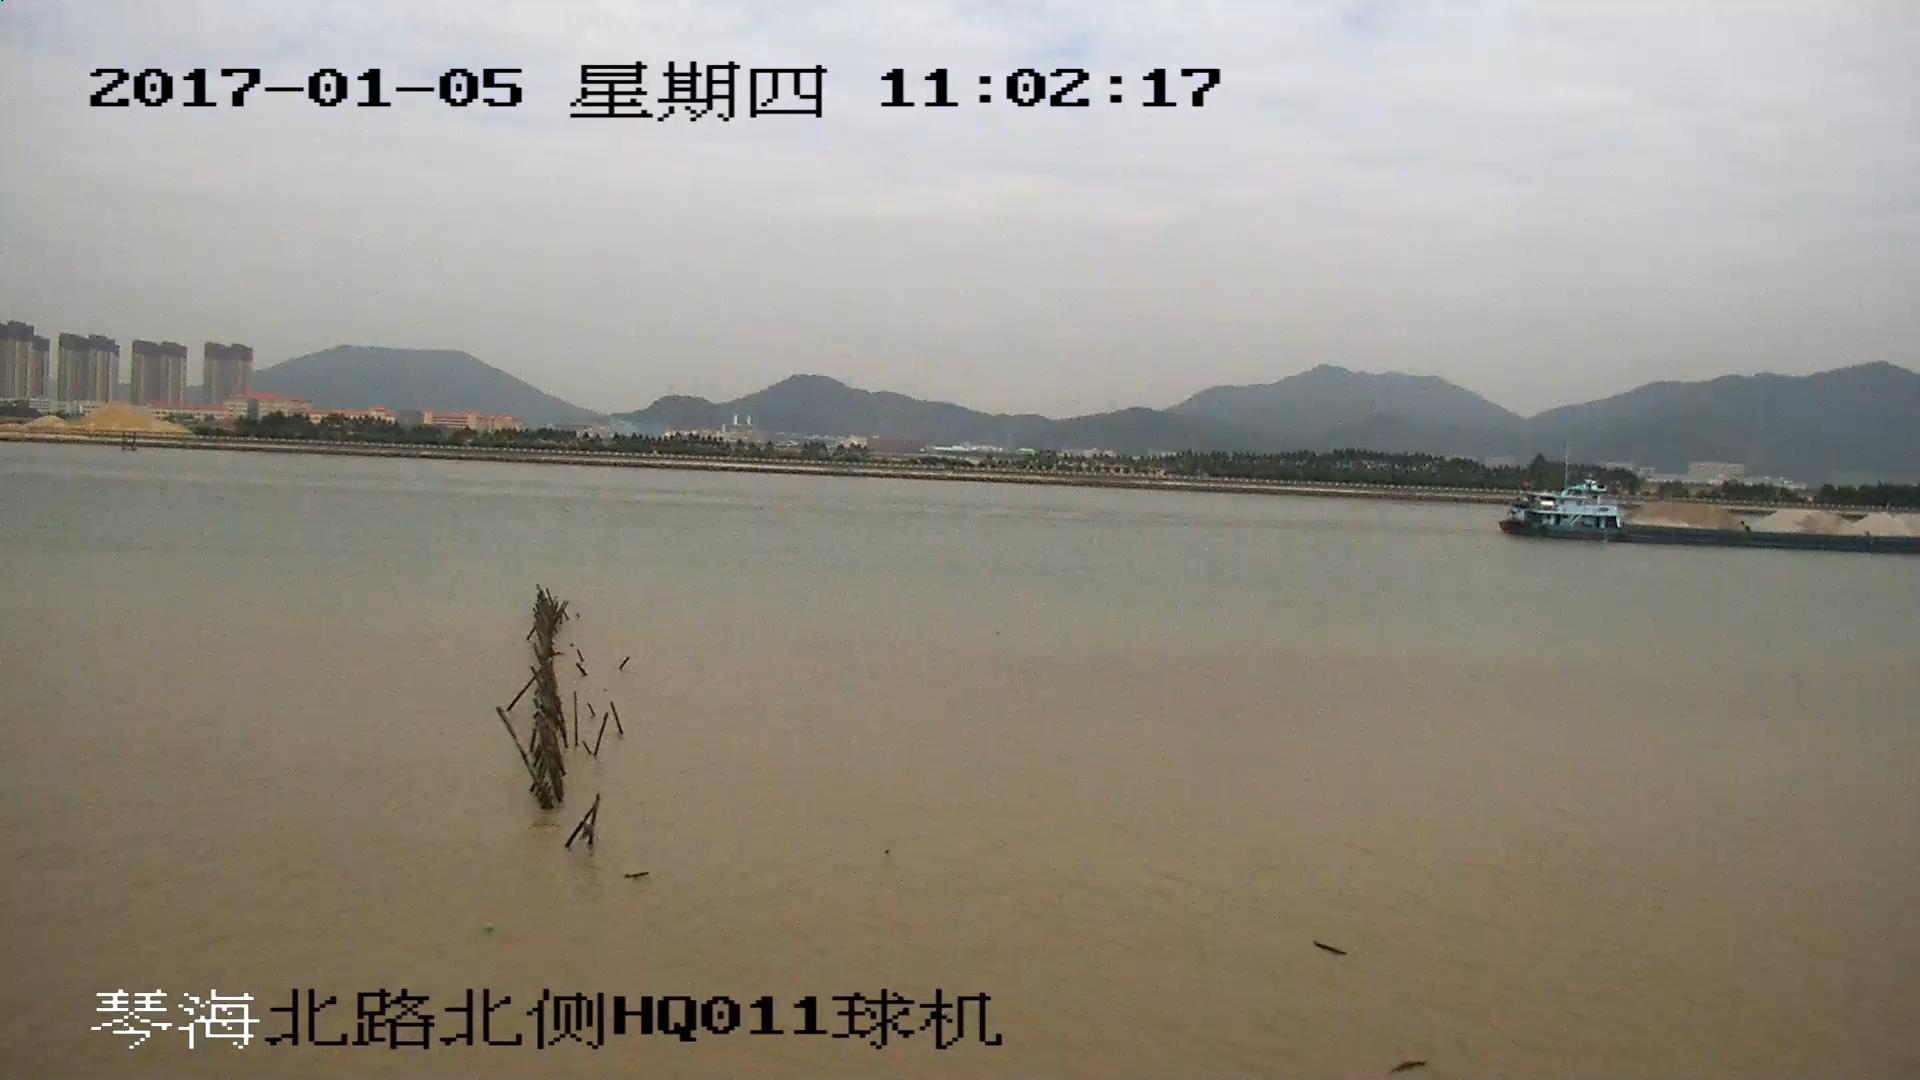ore carrier: (1504, 484, 1920, 553)
